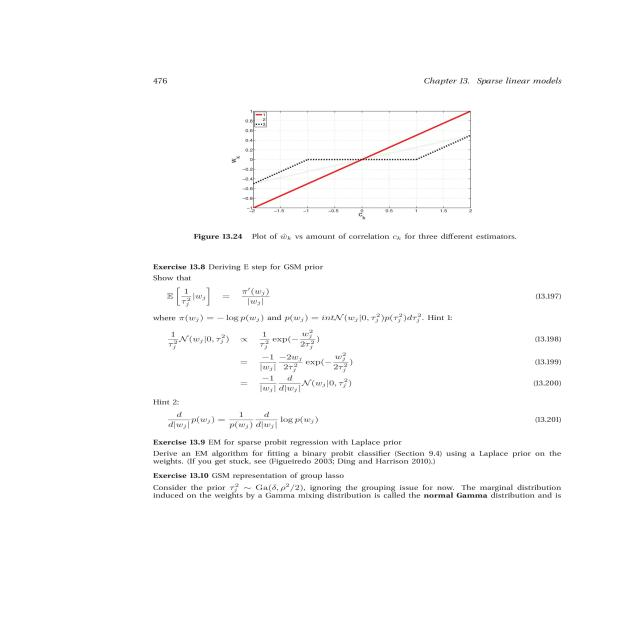diagram: (118, 89, 640, 246)
